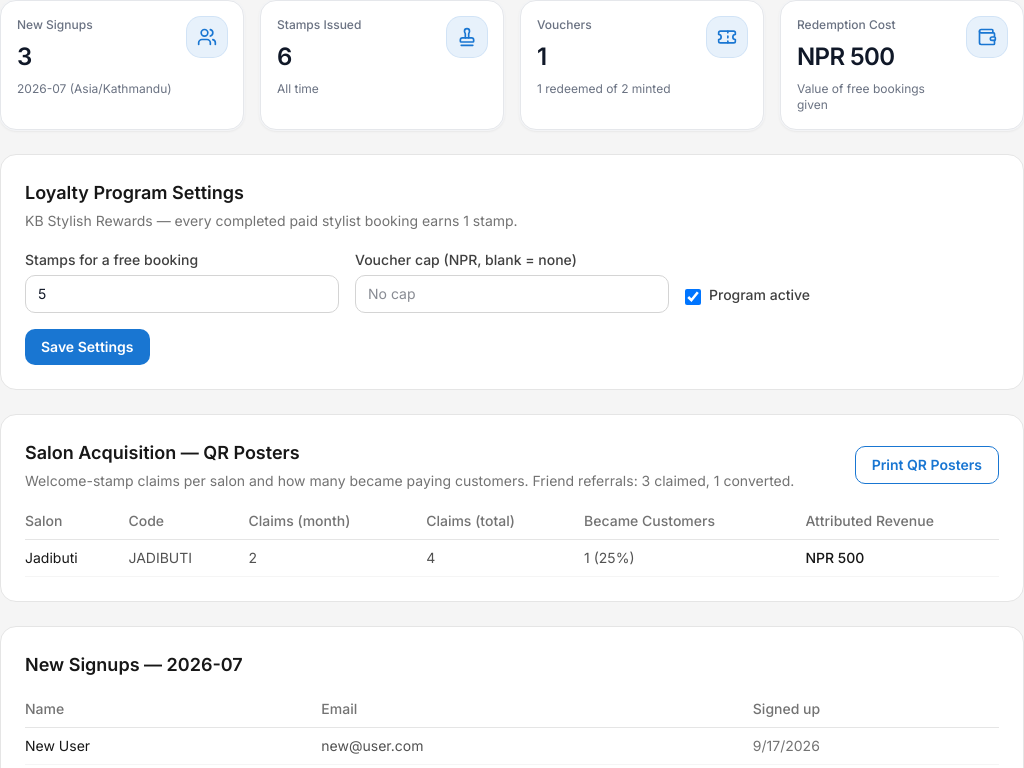
Test: CrmClient › shows an error notice when the save fails
The width and height of the screenshot is (1024, 768).
Click the button with test id "config-save" at (87, 347), box [25, 329, 150, 365]
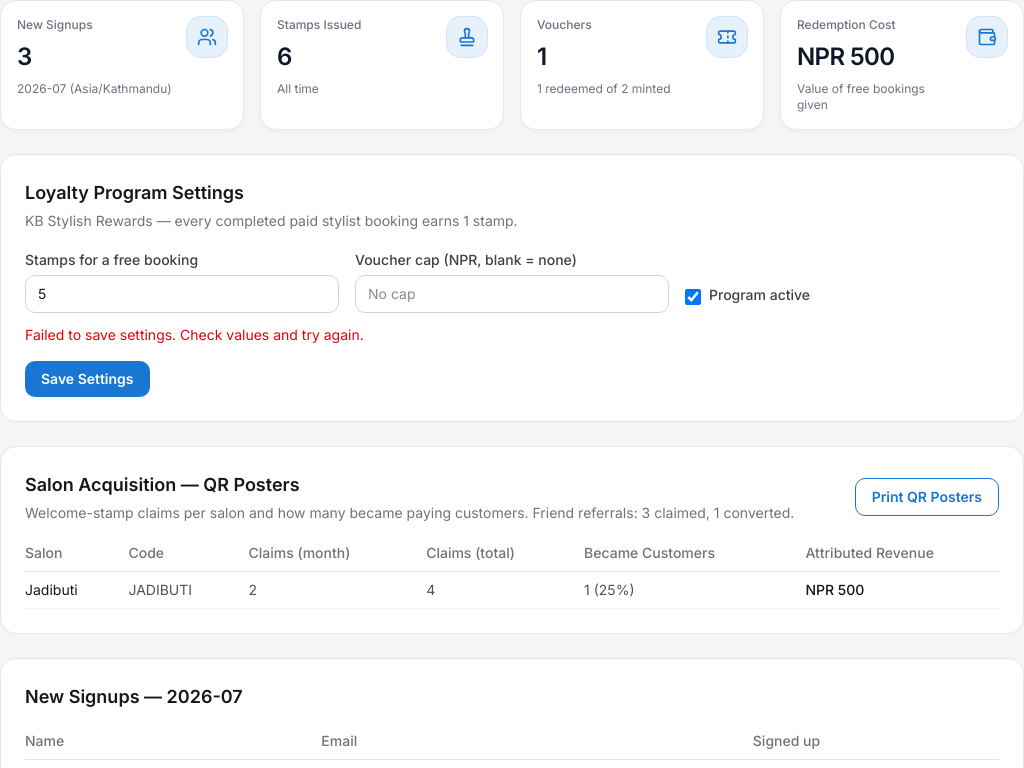
Expected: the text "Failed to save settings. Check values and try again." is shown, [25, 326, 364, 343]
